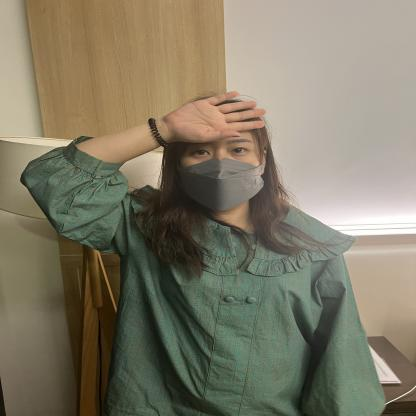Sick: (112, 84, 280, 184)
